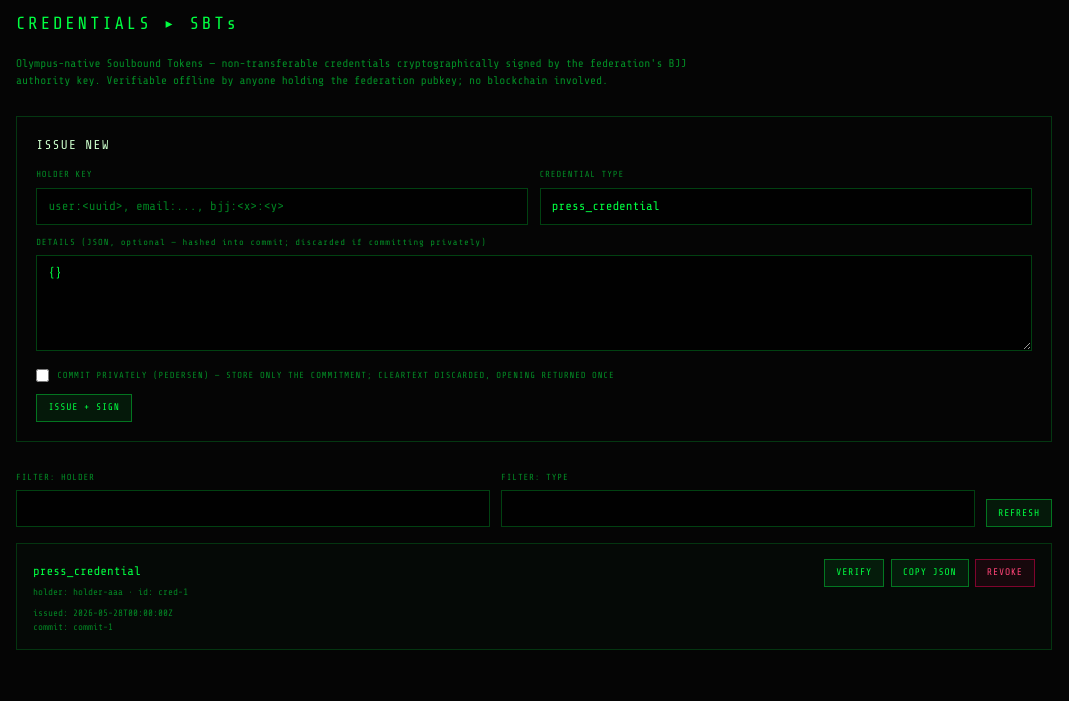
Test: <CredentialsPage> › REVOKE surfaces the server error when the revoke POST rejects
Click the button "REVOKE" at (1005, 573), box [975,559,1035,587]
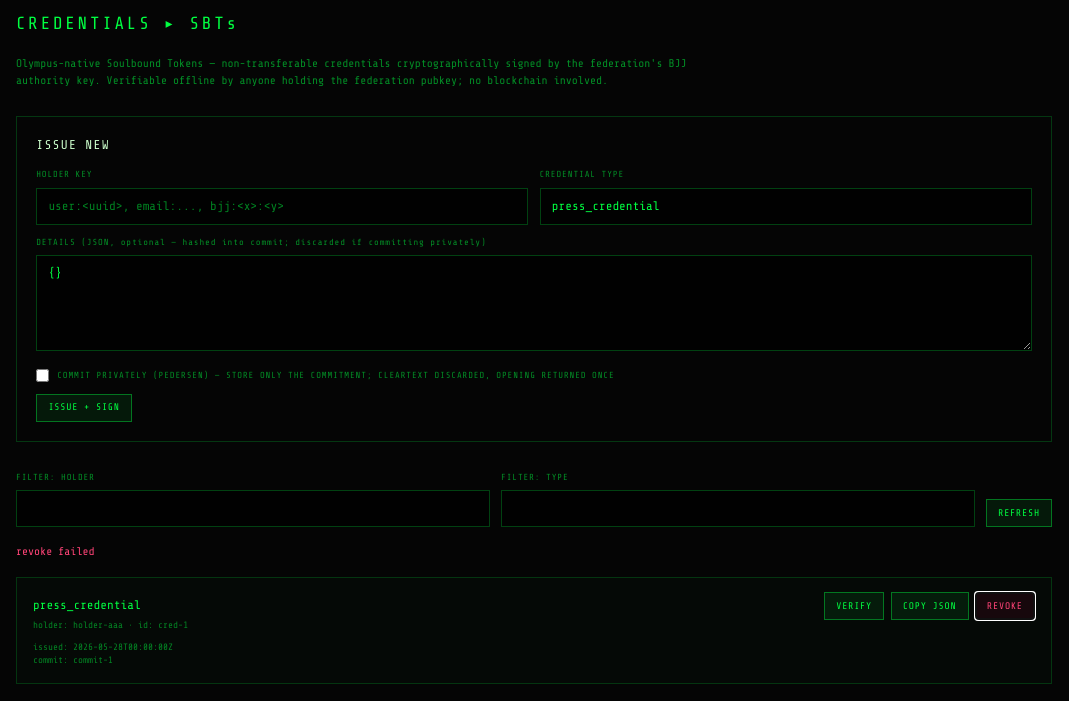
Check: the text "revoke failed" is shown, box [16,545,94,558]
